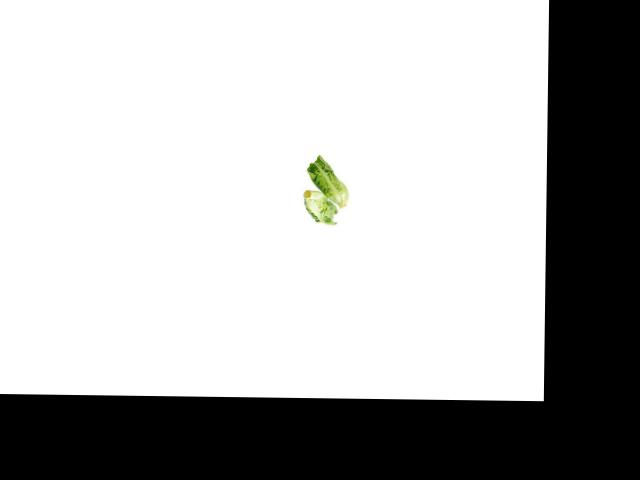lettuce: (297, 187, 339, 226)
